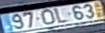3: (82, 3, 95, 20)
6: (70, 4, 84, 20)
7: (21, 10, 34, 29)
9: (10, 12, 24, 30)
L: (52, 7, 69, 24)
O: (39, 8, 55, 25)
